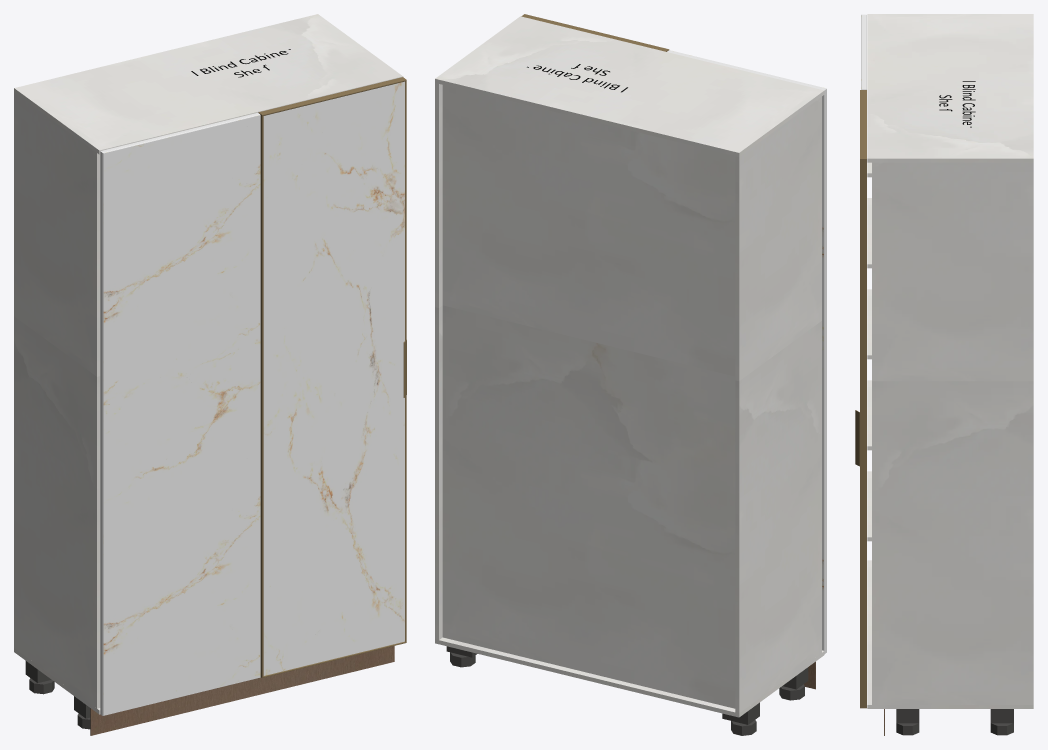
The model's file is TB-SH-TTS-ST-5SX-LHS-XXX-1150-2040-560-15.glb.
3 renders of one model, left to right at view 1: azimuth 30°, elevation 25°; view 2: azimuth 150°, elevation 25°; view 3: azimuth 270°, elevation 25°, orthographic. The views are drawn at different scales.
Parts seen in each view (by area): view 1: TP_node_7, Object_node_15, TP_node_0, TP, Object_node_17, ALU PROF FOR SHUTTER 851P IMP_node, Extrusion_node_1, Extrusion_node, Extrusion; view 2: TP_node_8, TP_node_0, TP, TP_node_1, TP_node, ALU PROF FOR SHUTTER 851P IMP_node, TP_node_7; view 3: TP_node_1, TP, Extrusion_node, TP_node, Extrusion, ALU PROF FOR SHUTTER 851P IMP_node_1, 2D text_node_0, TP_node_2, TP_node_3, TP_node_4, TP_node_5, Plate_node (+1 smaller).
Boxes of the visible parts, x1,y1,x2,y2 form: TP_node_7: [103, 115, 260, 715]; Object_node_15: [263, 81, 404, 675]; TP_node_0: [14, 92, 100, 708]; TP: [14, 14, 403, 154]; Object_node_17: [90, 646, 394, 735]; ALU PROF FOR SHUTTER 851P IMP_node: [100, 151, 103, 715]; Extrusion_node_1: [258, 112, 263, 677]; Extrusion_node: [405, 80, 406, 642]; Extrusion: [259, 77, 406, 115]; TP_node_8: [442, 85, 735, 708]; TP_node_0: [735, 97, 821, 713]; TP: [435, 16, 824, 156]; TP_node_1: [435, 83, 442, 639]; TP_node: [435, 637, 824, 717]; ALU PROF FOR SHUTTER 851P IMP_node: [824, 89, 826, 653]; TP_node_7: [670, 50, 826, 650]; TP_node_1: [872, 162, 1033, 704]; TP: [867, 14, 1033, 162]; Extrusion_node: [860, 159, 866, 708]; TP_node: [867, 560, 1033, 708]; Extrusion: [860, 90, 866, 158]; ALU PROF FOR SHUTTER 851P IMP_node_1: [861, 14, 866, 89]; 2D text_node_0: [939, 81, 975, 127]; TP_node_2: [867, 471, 871, 541]; TP_node_3: [867, 380, 871, 450]; TP_node_4: [867, 289, 871, 359]; TP_node_5: [867, 198, 871, 268]; Plate_node: [990, 709, 1013, 723].
Size of what is drawn, in the model's own units: 1.15 by 2.15 by 0.6.
Materials: 7 (3 with a texture image).
